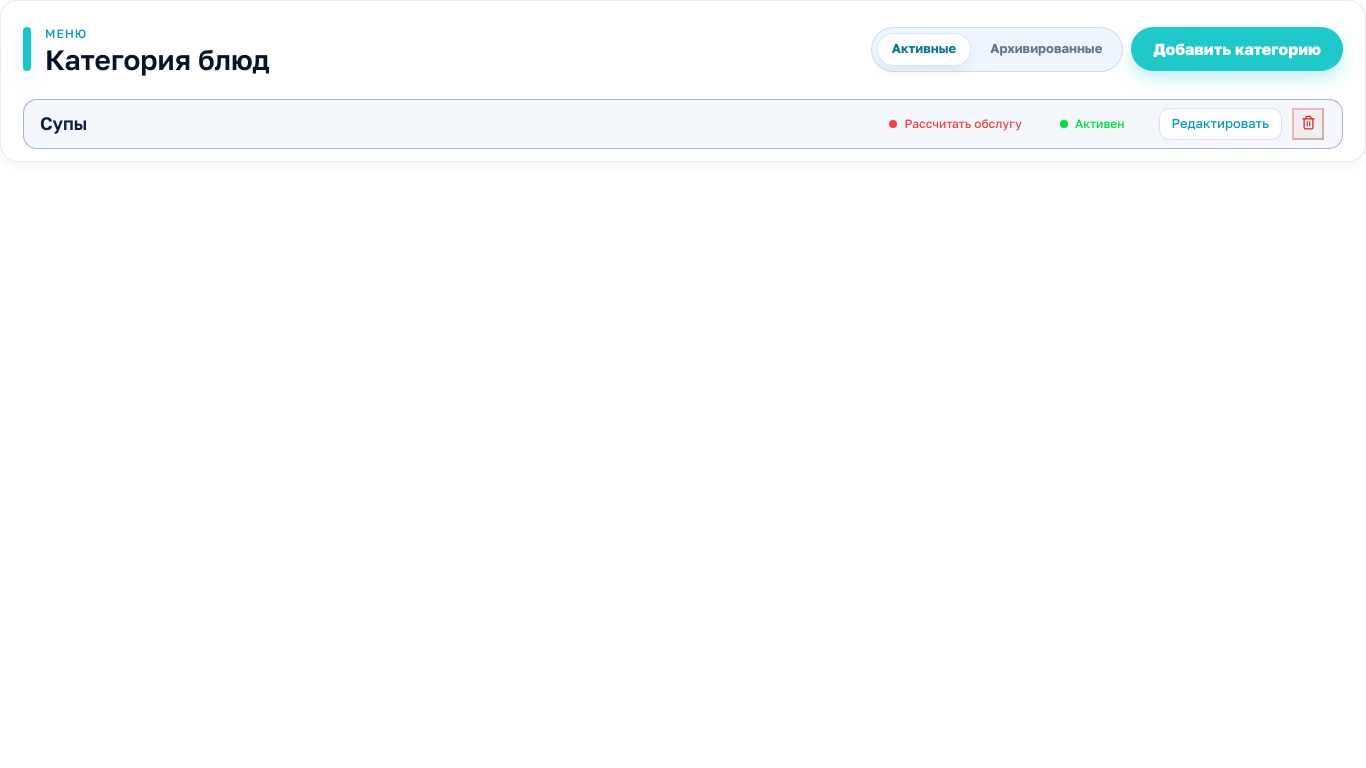
Scenario: Dish Categories V2 follow-up › keeps the edit modal open with the real backend error on save failure
Check: the text "Супы" is shown, box [40, 112, 87, 136]
Click the button "Редактировать": (1220, 124) [1159, 108, 1282, 140]
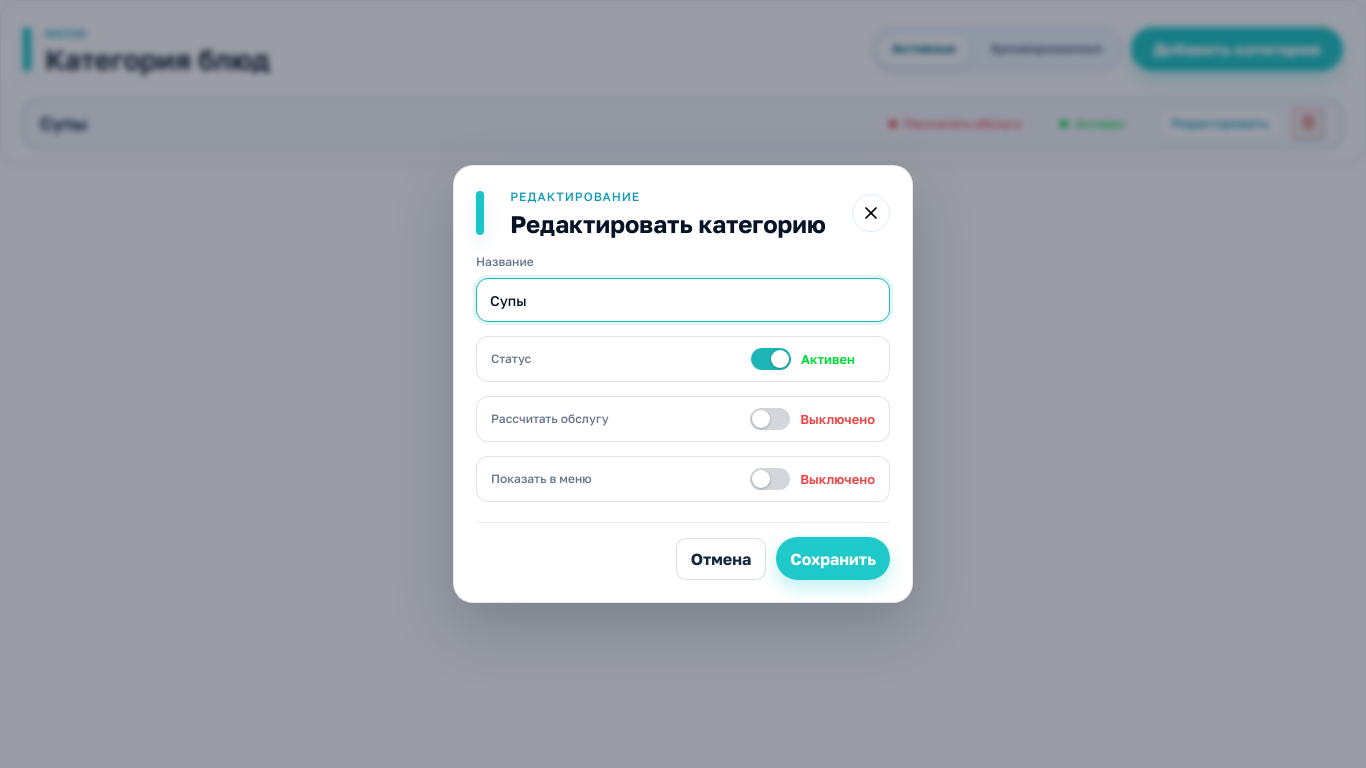
Replace the text in the field with placeholder "Название категории" with "Дубликат": (683, 300) [476, 278, 890, 322]
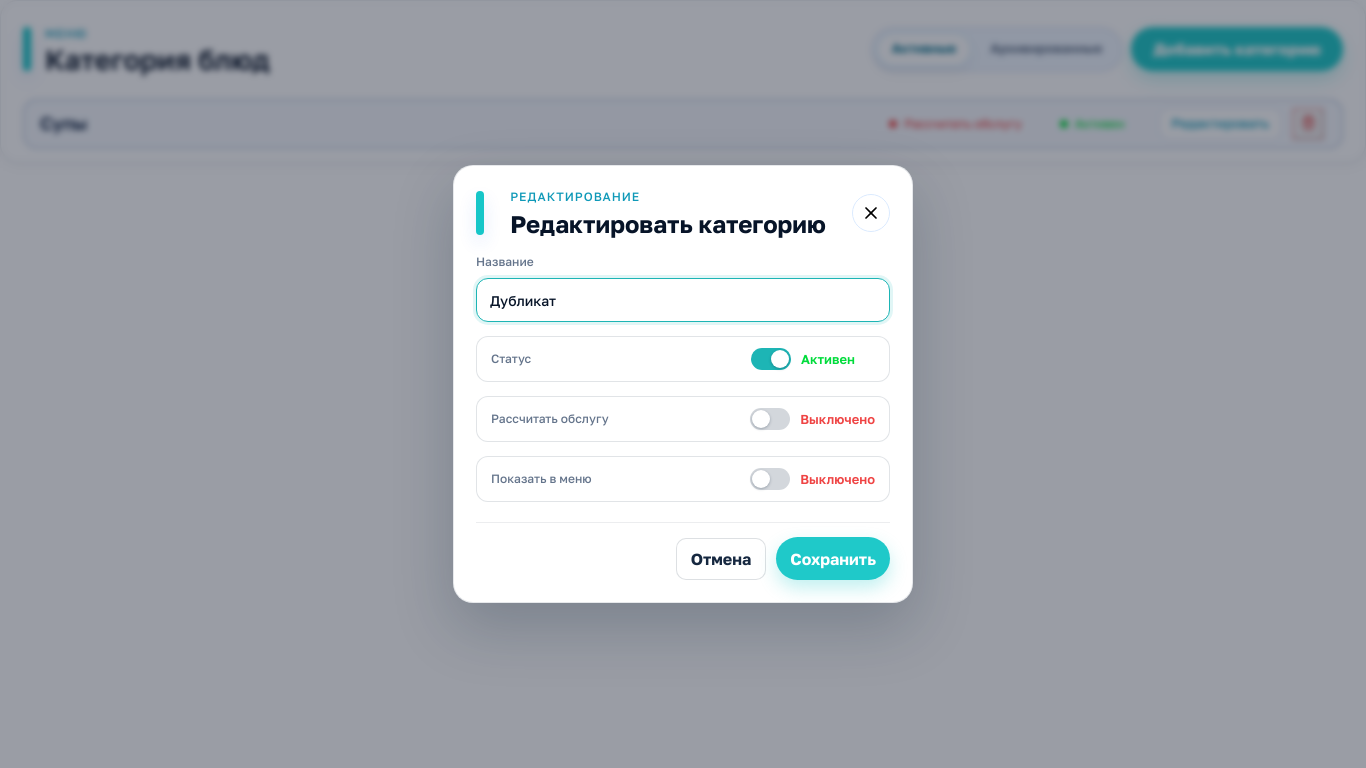
Click the button "Сохранить": (833, 559) [776, 537, 890, 580]
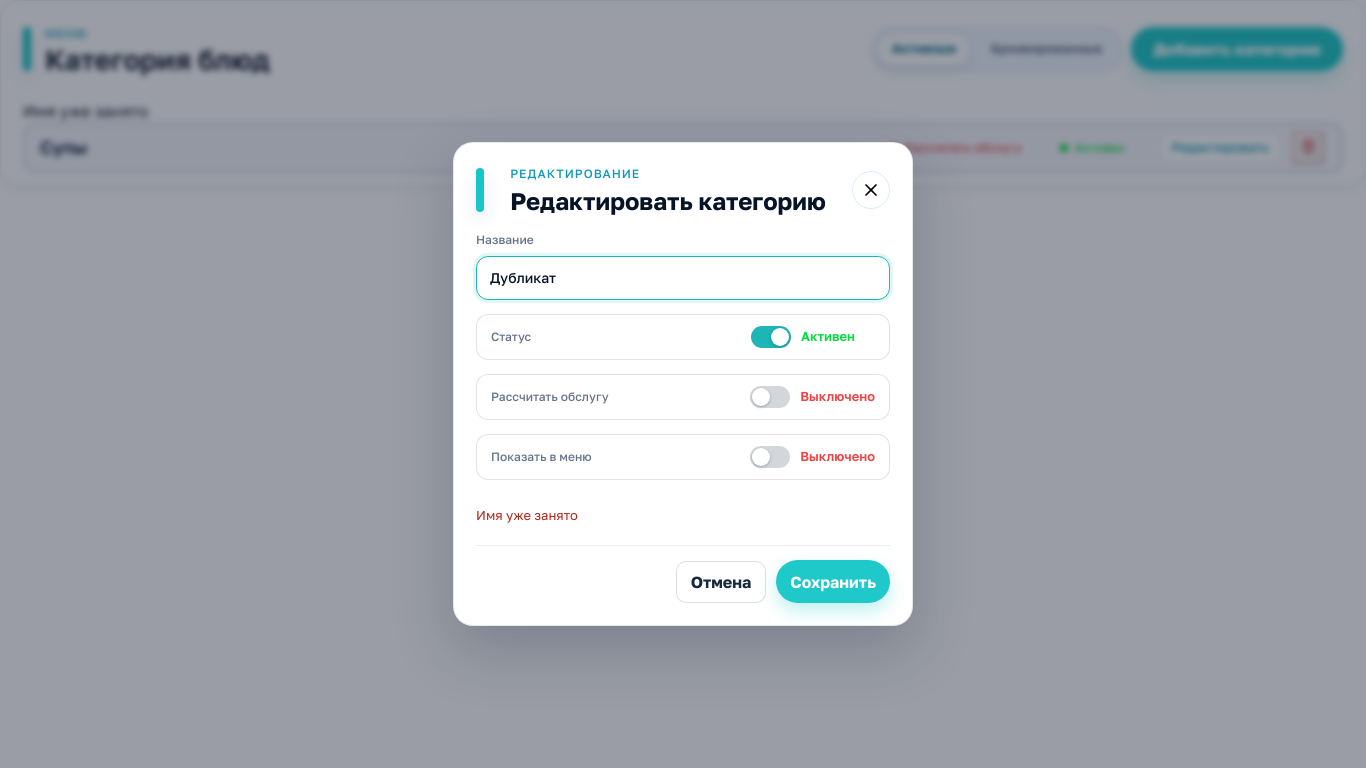
Check: the text "Супы" is shown, box [40, 136, 87, 160]
Check: the dialog "Редактировать категорию" is shown, box [453, 142, 913, 626]
Check: the text "Имя уже занято" is shown, box [476, 506, 578, 522]
